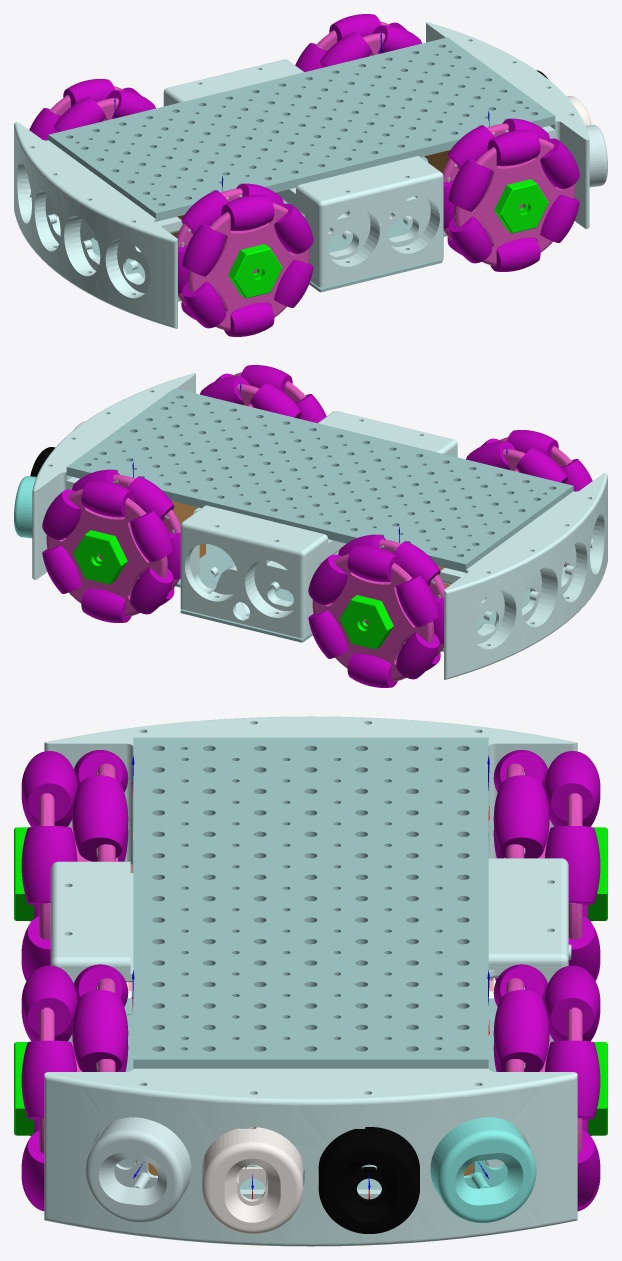
Rendered from mobilerobot.glb.
3 views of the same model, one above another, from view 1: azimuth 30°, elevation 25°; view 2: azimuth 150°, elevation 25°; view 3: azimuth 270°, elevation 25° (orthographic). The views are drawn at different scales.
Parts seen in each view (by area): view 1: CenterPlate Alu, sbFront (×2), sbCenter, Roller_copy4 (×8), rim_outer_b (×2), Roller_copy3 (×8), Wheel-Hub-Cap (×2), Roller_copy5 (×2), Roller_copy6 (×2), Roller_copy1 (×2), Roller_copy2 (×2), sb_center_cont (+4 smaller); view 2: CenterPlate Alu, sbFront (×2), sb_center_cont, rim_outer_b (×2), Roller_copy4 (×8), Roller_copy3 (×6), Wheel-Hub-Cap (×2), Roller_copy5 (×4), Roller_copy2 (×3), Roller_copy1 (×2), Roller_copy6 (×2), sbCenter (+4 smaller); view 3: CenterPlate Alu, sbFront (×2), Top (×4), Roller_copy4 (×8), Roller_copy3 (×6), sbCenter, sb_center_cont, Base (×4), Roller_copy5 (×2), Wheel-Hub-Cap (×4), Roller_copy6 (×2), Roller_copy2 (×2) (+1 smaller).
Part boxes in pixels (<box>): CenterPlate Alu: <box>48,37,555,221</box>; sbFront (×2): <box>14,22,589,328</box>; sbCenter: <box>275,156,443,287</box>; Roller_copy4 (×8): <box>63,14,540,234</box>; rim_outer_b (×2): <box>188,138,575,330</box>; Roller_copy3 (×8): <box>29,32,579,253</box>; Wheel-Hub-Cap (×2): <box>228,179,548,298</box>; Roller_copy5 (×2): <box>182,158,491,276</box>; Roller_copy6 (×2): <box>182,216,491,328</box>; Roller_copy1 (×2): <box>224,237,540,336</box>; Roller_copy2 (×2): <box>274,194,579,307</box>; sb_center_cont: <box>163,59,303,106</box>; CenterPlate Alu: <box>66,388,573,572</box>; sbFront (×2): <box>32,373,607,679</box>; sb_center_cont: <box>180,505,346,638</box>; rim_outer_b (×2): <box>46,489,433,681</box>; Roller_copy4 (×8): <box>72,365,567,581</box>; Roller_copy3 (×6): <box>127,376,515,627</box>; Wheel-Hub-Cap (×2): <box>73,530,393,649</box>; Roller_copy5 (×4): <box>42,394,592,604</box>; Roller_copy2 (×3): <box>130,531,439,679</box>; Roller_copy1 (×2): <box>81,588,397,687</box>; Roller_copy6 (×2): <box>42,545,347,658</box>; sbCenter: <box>318,411,457,457</box>; CenterPlate Alu: <box>133,737,488,1068</box>; sbFront (×2): <box>44,716,577,1246</box>; Top (×4): <box>85,1124,536,1233</box>; Roller_copy4 (×8): <box>21,750,600,1071</box>; Roller_copy3 (×6): <box>21,750,547,1119</box>; sbCenter: <box>50,861,133,1044</box>; sb_center_cont: <box>488,858,568,1044</box>; Base (×4): <box>96,1117,525,1205</box>; Roller_copy5 (×2): <box>545,826,600,1119</box>; Wheel-Hub-Cap (×4): <box>14,827,607,1135</box>; Roller_copy6 (×2): <box>568,916,600,1206</box>; Roller_copy2 (×2): <box>21,916,50,1206</box>.
Size of the model in its own units: 375 by 101 by 234.
